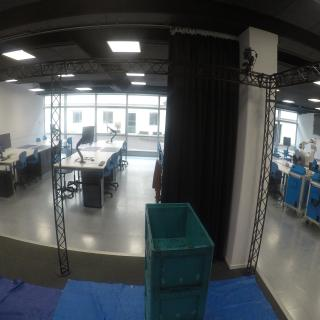BoxB4: (146, 204, 215, 292), (145, 272, 208, 320)
